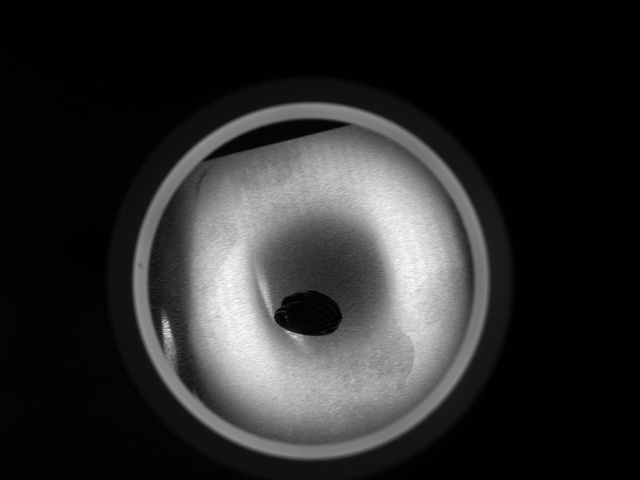zang_wu: (275, 285, 349, 339)
